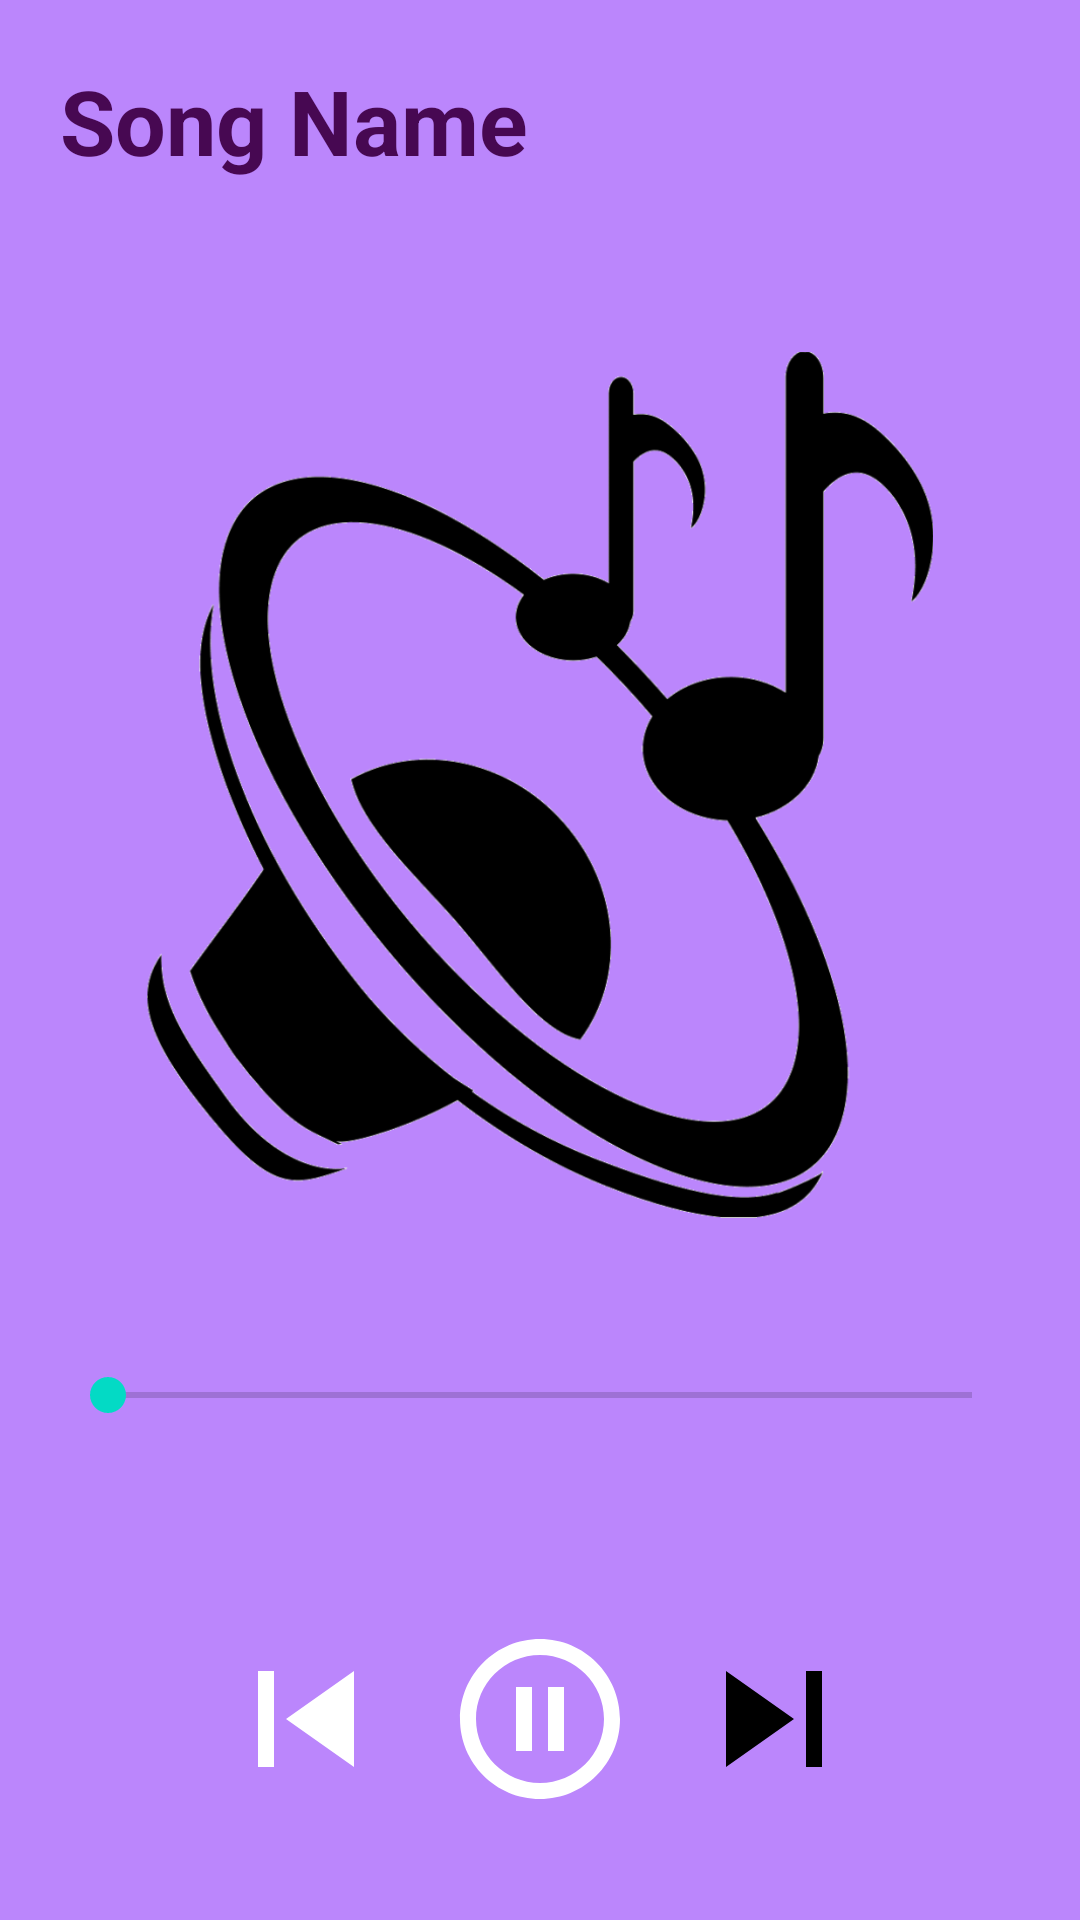

Locate icon controls on the screen. Image size 1080 × 1920, boxes as [x1, y1, x2, y2].
Next Button: [726, 1671, 822, 1767]
Play/Pause Button: [460, 1639, 620, 1799]
Previous Button: [258, 1671, 354, 1767]
